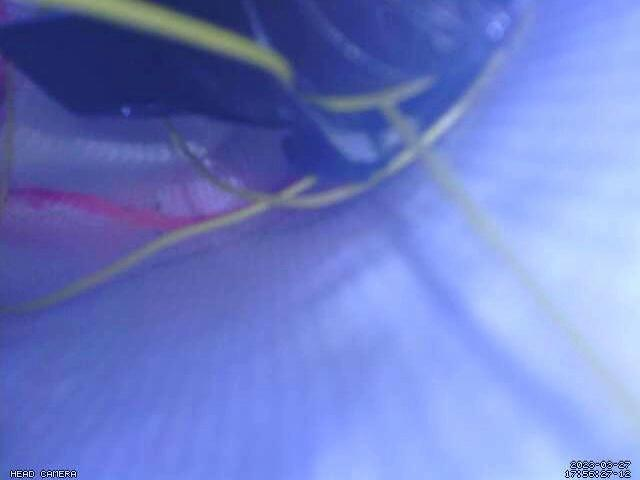head: (0, 1, 295, 230)
